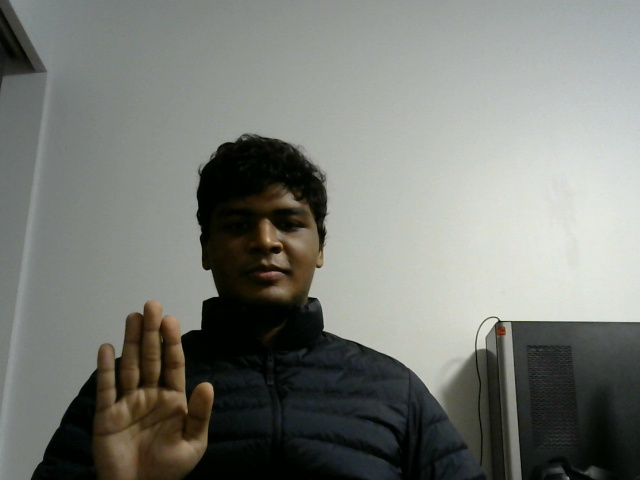Hi: (81, 293, 225, 480)
